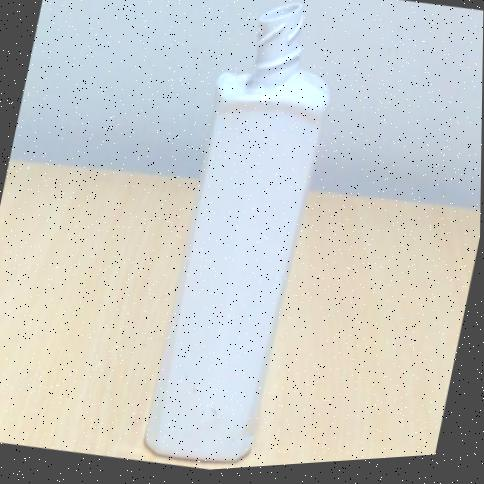bottle: (144, 3, 329, 460)
